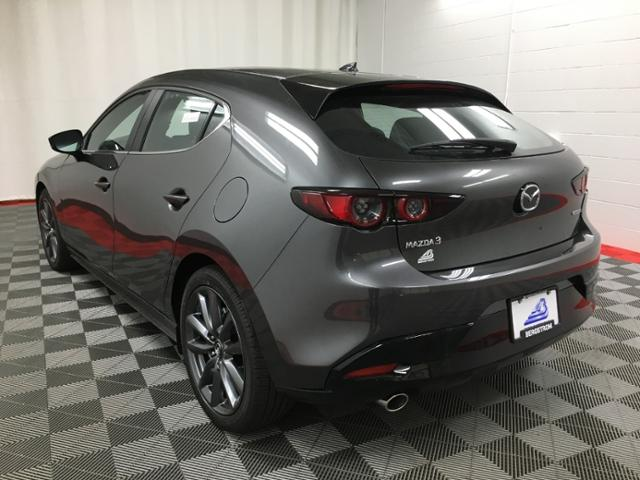Mazda3 Hatchback: (30, 56, 607, 442)
